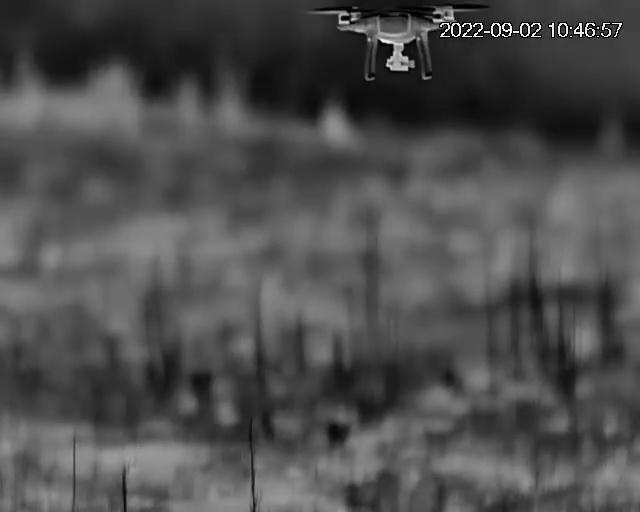DJI-Phantom: (310, 2, 490, 80)
